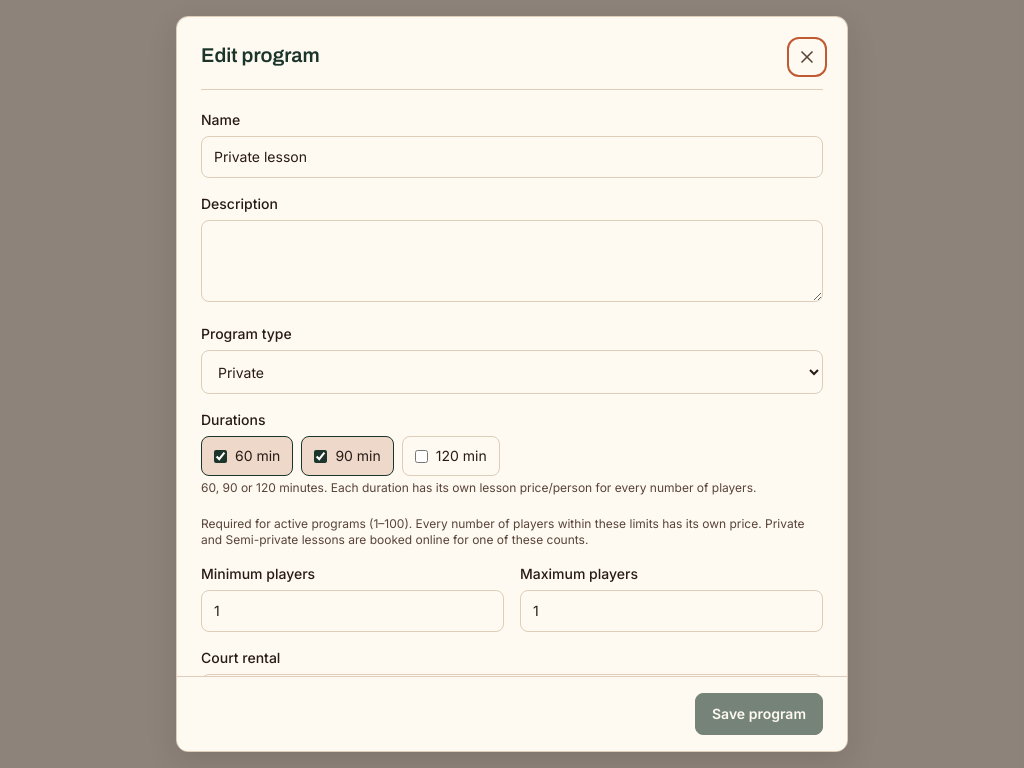
Scenario: states which saved prices a removed duration deletes, and keeps them when reselected
Click the checkbox labelled "90 min": (321, 456) left=314, top=450, right=327, bottom=462
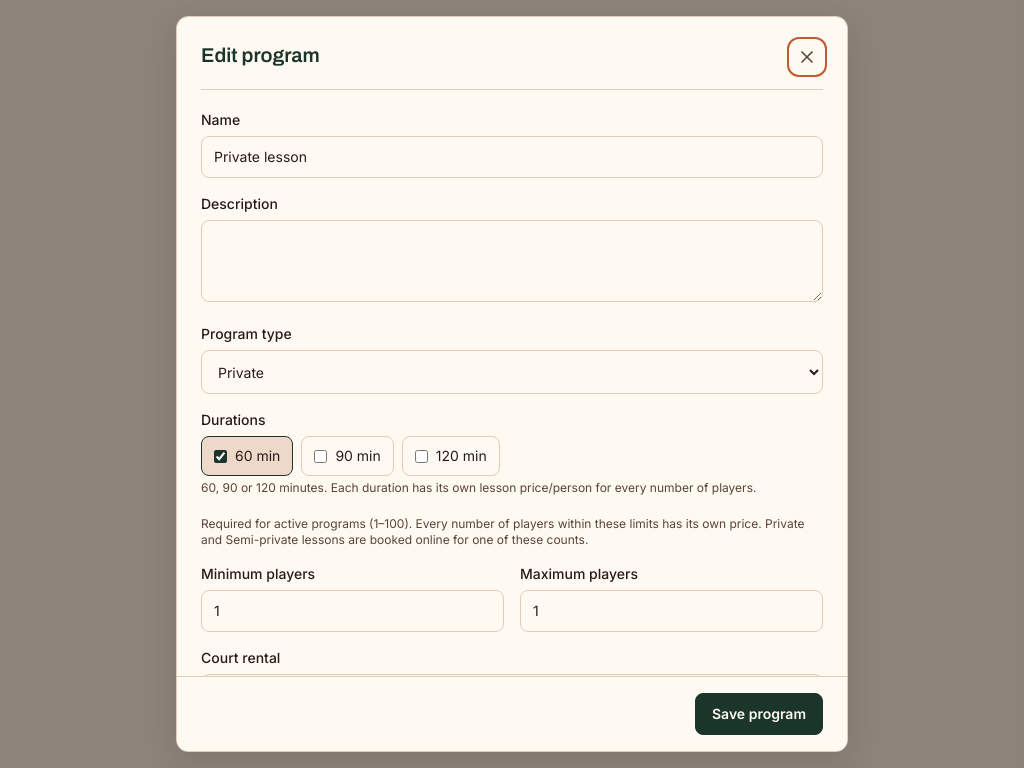
Click the checkbox labelled "90 min": (321, 456) left=314, top=450, right=327, bottom=462
(page scrolled)
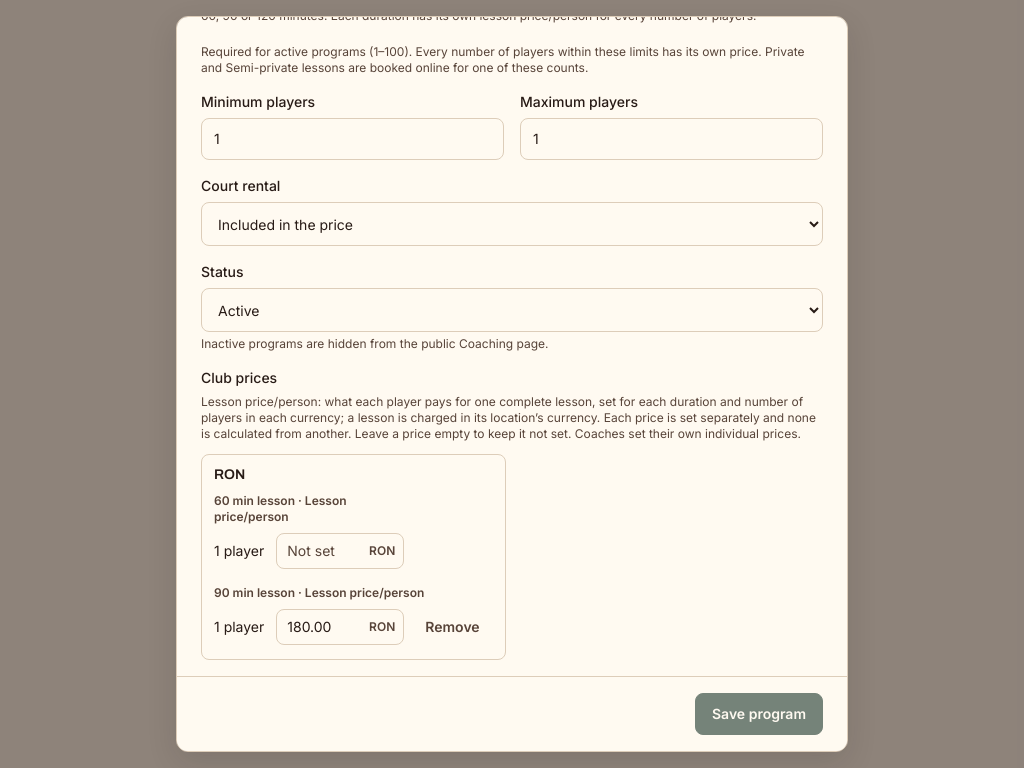
Result: the field named "1 player, club 90 min lesson price/person in RON" holds "180.00" at left=277, top=611, right=369, bottom=643
